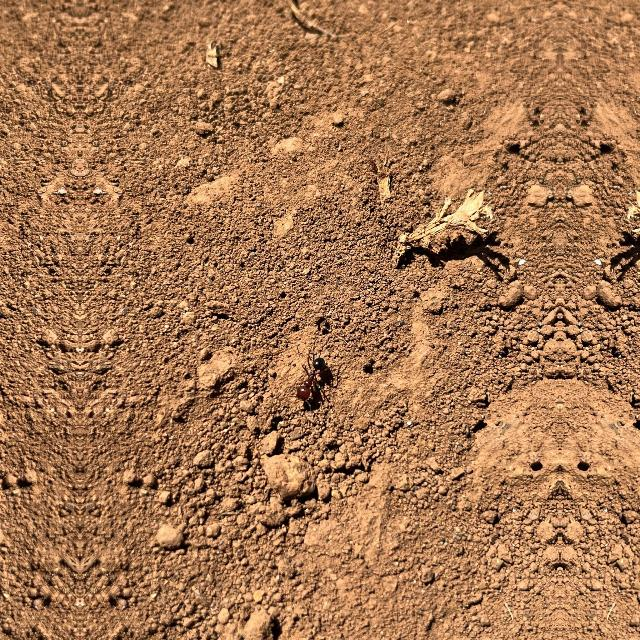Messor: (294, 351, 328, 405)
